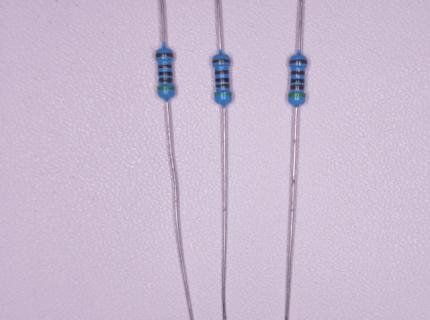Black band: (159, 71, 172, 75), (216, 78, 229, 82), (292, 79, 305, 83)
Brown band: (156, 53, 173, 58), (213, 59, 231, 63), (290, 60, 308, 64), (291, 71, 305, 76), (290, 85, 304, 90), (159, 78, 172, 83), (215, 70, 228, 75), (216, 84, 229, 88), (158, 65, 172, 68)
Green band: (289, 93, 305, 98), (158, 87, 174, 90), (215, 93, 231, 96)
